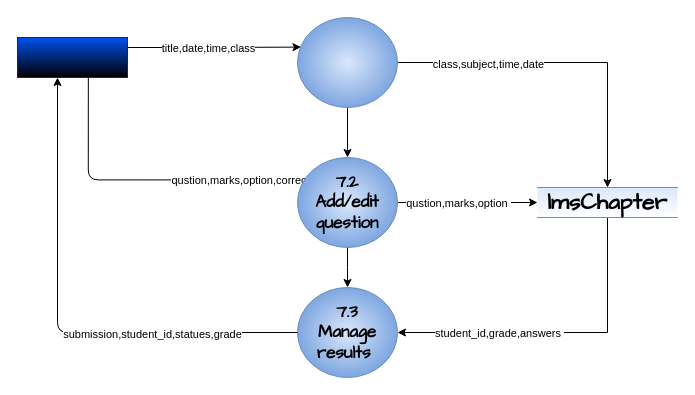
The diagram is 695 pixels wide and 395 high, and some of its shapes have lost their labels. The shapes that lost their labels are listed below. From the top down, each one's centre as x and y in pixels, then its label:
pixel 72 57: Tecaher
pixel 347 62: 7.1 Create/Edit exam
